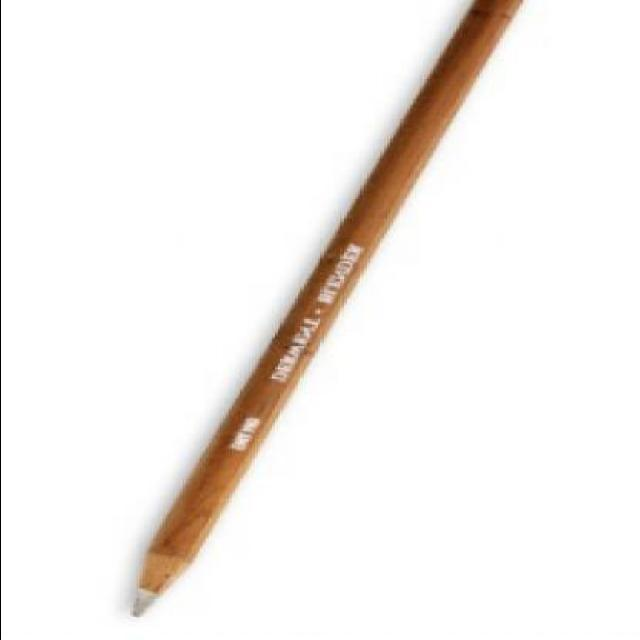Pencil: (107, 537, 215, 623)
